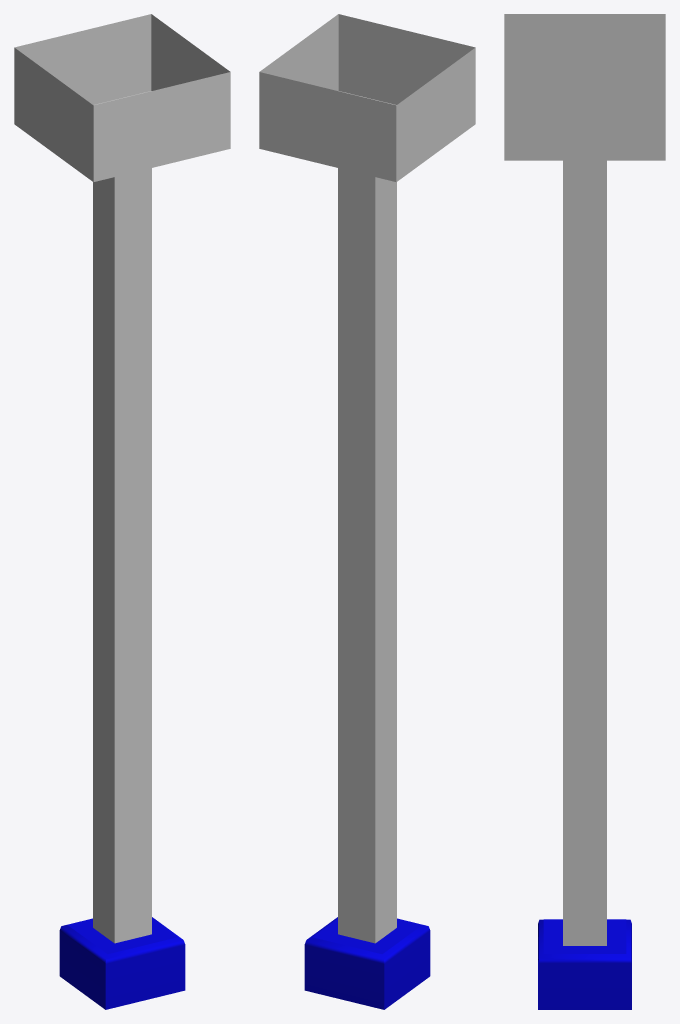
The model's file is SecuirtyWallCornerAlt.fbx.
The picture shows the model from 3 angles, left to right: view 1: azimuth 30°, elevation 25°; view 2: azimuth 150°, elevation 25°; view 3: azimuth 270°, elevation 25°; orthographic projection.
Visible parts, largest first — view 1: Wall, Trim; view 2: Wall, Trim; view 3: Wall, Trim.
Part boxes in pixels (left/top/right/bottom): Wall: left=14, top=14, right=230, bottom=943; Trim: left=59, top=917, right=185, bottom=1009; Wall: left=259, top=14, right=475, bottom=943; Trim: left=304, top=917, right=430, bottom=1009; Wall: left=504, top=14, right=665, bottom=945; Trim: left=538, top=919, right=631, bottom=1009.
Size of the model in its own units: 1.84 by 11.87 by 1.84.
